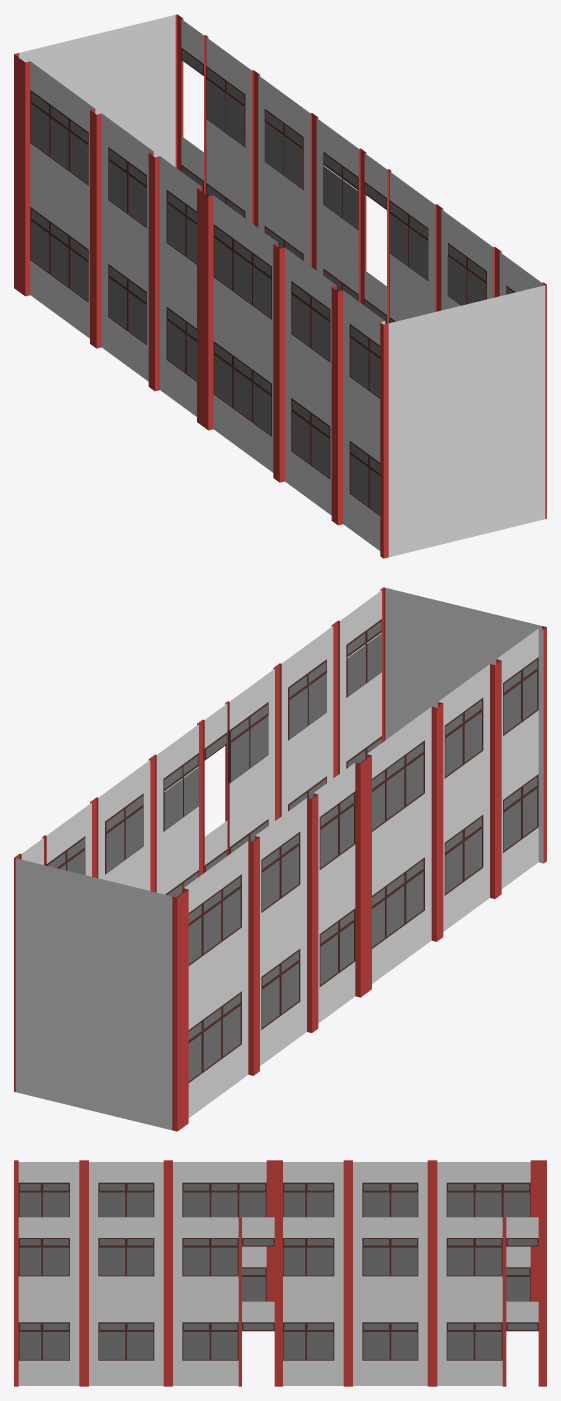
3 views of the same model, one above another, from view 1: azimuth 30°, elevation 25°; view 2: azimuth 150°, elevation 25°; view 3: azimuth 270°, elevation 25° (orthographic). The views are drawn at different scales.
Visible parts, largest first — view 1: Cube.080; view 2: Cube.080; view 3: Cube.080.
Part boxes in pixels (bbox=[...]): Cube.080: bbox=[14, 14, 546, 558]; Cube.080: bbox=[14, 587, 546, 1131]; Cube.080: bbox=[14, 1160, 546, 1386].
Size of the model in its own units: 1462 by 2000 by 5724.
